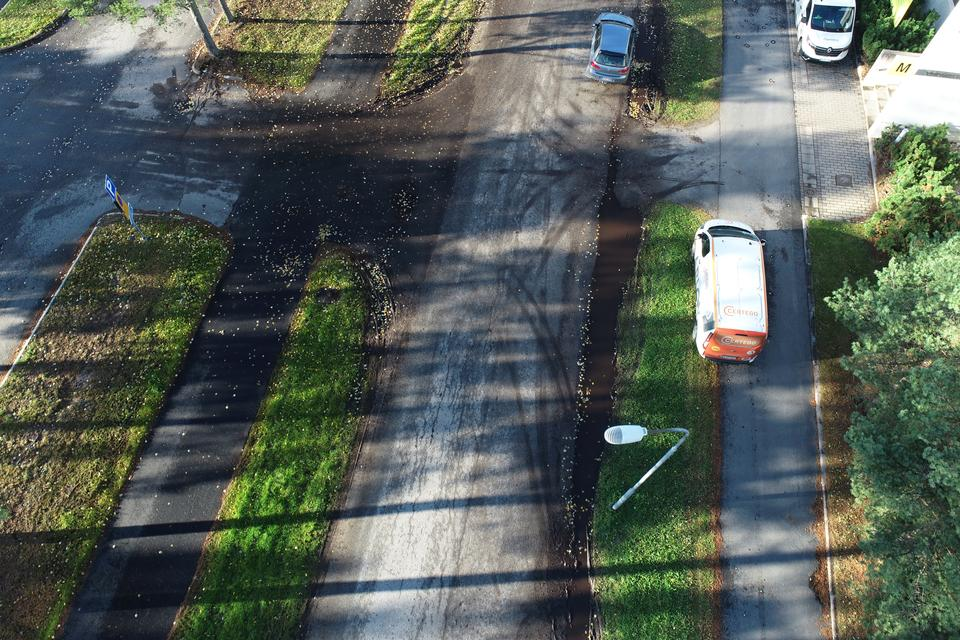intersection: (125, 35, 685, 306)
